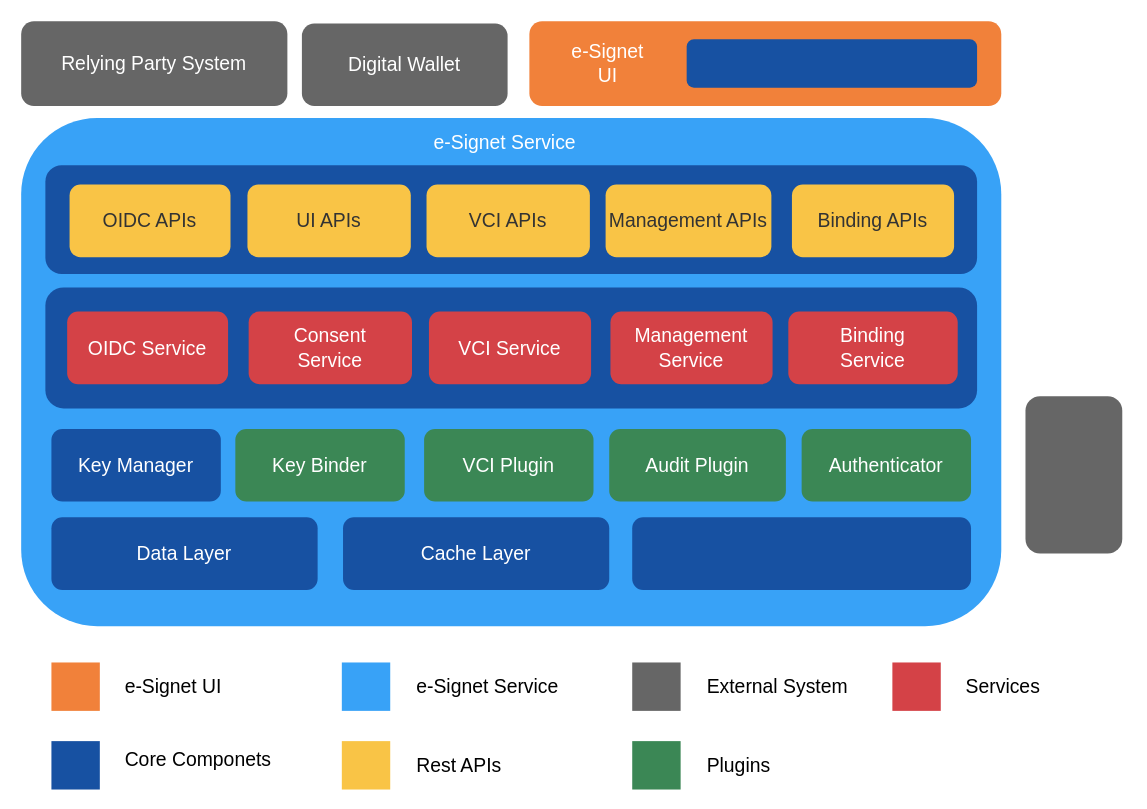
Some shapes in this 1147 by 809 pixel diagram are drawn without their labels. The box of each missing label's shape, as (x1, y1, x2, y2) in pixels:
e-Signet Core: (632, 517, 970, 589)
ID System: (1025, 396, 1122, 553)
SBI Integration: (686, 39, 976, 87)
